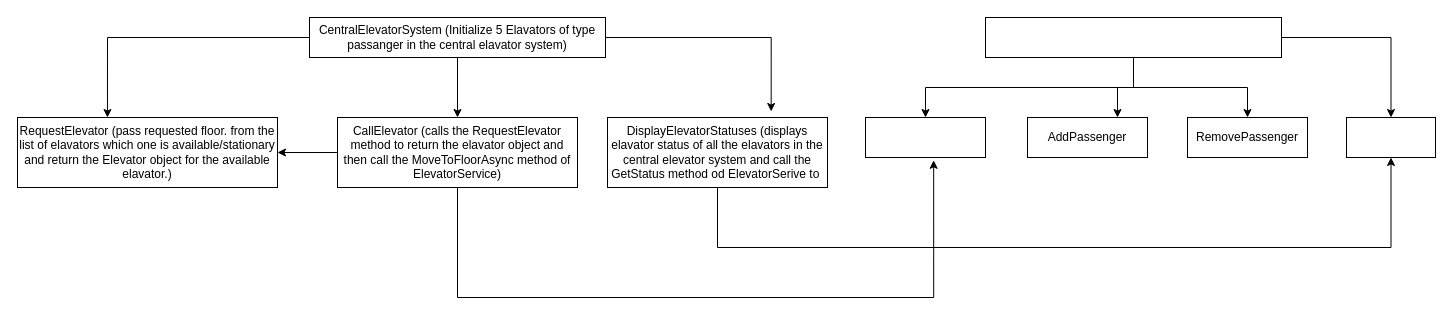
Image size: 1453x323. Some labels were removed from this diagram. The shapes that lost their labels are listed below. From the top down, each one's centre as x and y in pixels, then its label:
At pixel 1133 37: "ElevatorService".
At pixel 925 137: "MoveToFloorAsync".
At pixel 1391 137: "GetStatus".
